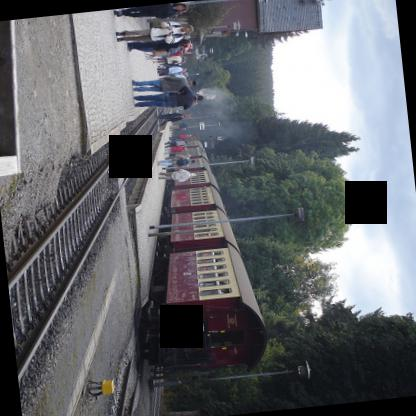backpack: (171, 25, 182, 37), (175, 159, 189, 165)
